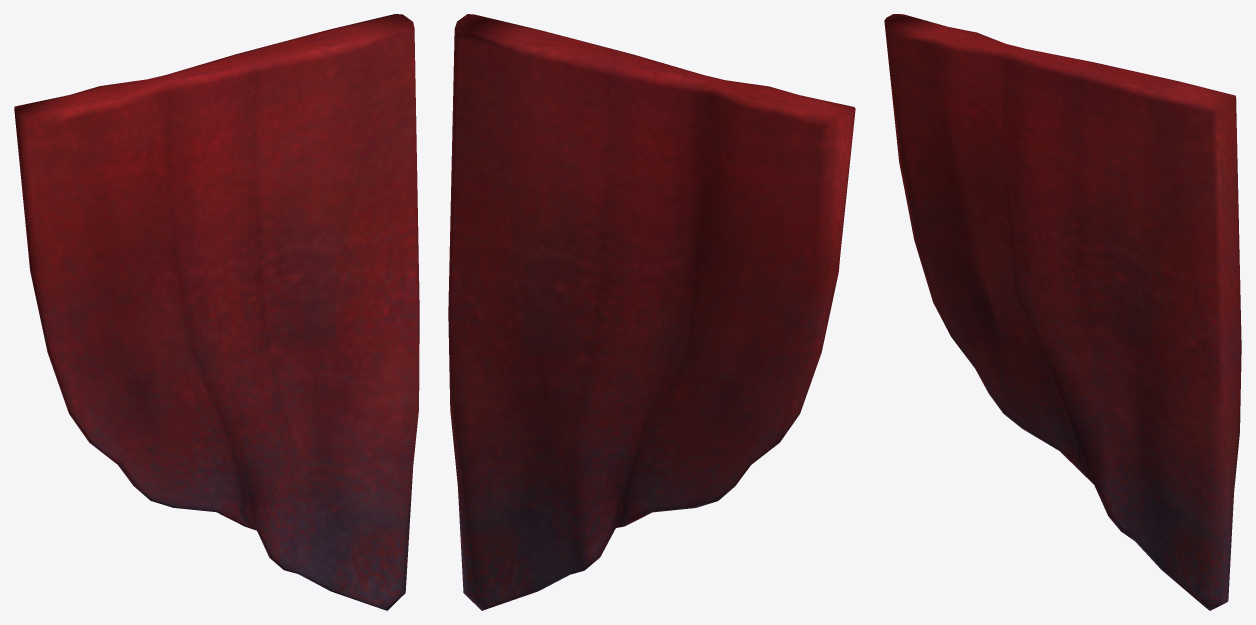
File: SM_Curtains.fbx
The picture shows the model from 3 angles, left to right: view 1: azimuth 30°, elevation 25°; view 2: azimuth 150°, elevation 25°; view 3: azimuth 330°, elevation 25°; orthographic projection. The views are drawn at different scales.
Parts seen in each view (by area): view 1: SM_Curtain; view 2: SM_Curtain; view 3: SM_Curtain.
Part boxes in pixels (box(x1,y1,x2,y2)): SM_Curtain: box(14, 14, 419, 610); SM_Curtain: box(448, 14, 855, 610); SM_Curtain: box(884, 14, 1241, 610).
Bounding box in the file's own units: 1111 × 1576 × 183.
